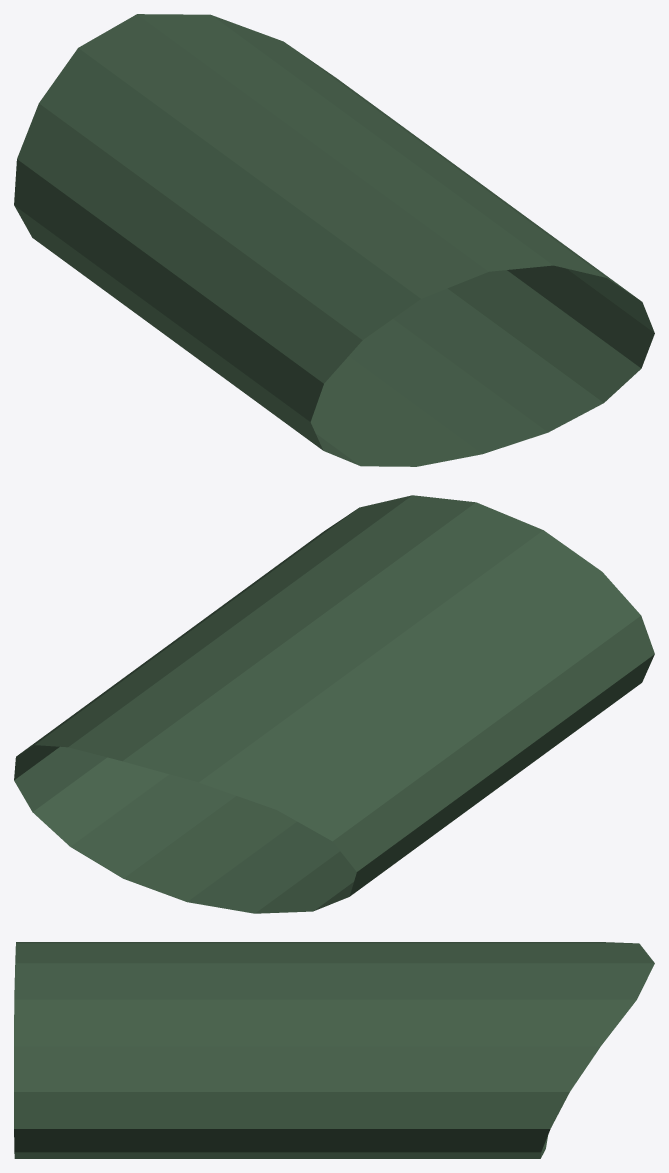
The model's file is snakeBakedAnimationColored_bodySegement.fbx.
3 views of the same model, one above another, from view 1: azimuth 30°, elevation 25°; view 2: azimuth 150°, elevation 25°; view 3: azimuth 270°, elevation 25° (orthographic). The views are drawn at different scales.
Visible parts, largest first — view 1: snakeBodySegment; view 2: snakeBodySegment; view 3: snakeBodySegment.
Part boxes in pixels (x1,y1,x2,y2): snakeBodySegment: (14,14,654,466); snakeBodySegment: (14,495,654,913); snakeBodySegment: (14,942,654,1158).
Bounding box in the file's own units: 0.6245 × 0.3144 × 1.11.
